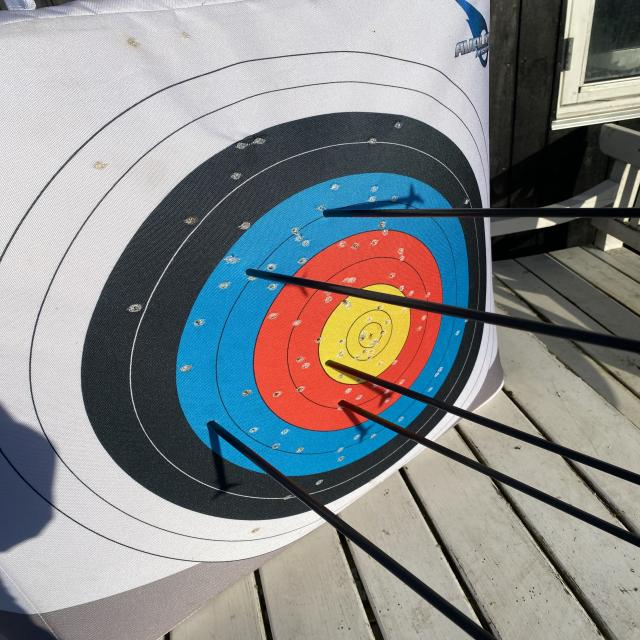Arrow_Blue: (200, 398, 235, 443), (314, 200, 360, 228), (238, 260, 268, 286)
Arrow_Red: (326, 391, 361, 415)
Arrow_Yellow: (320, 351, 348, 379)
